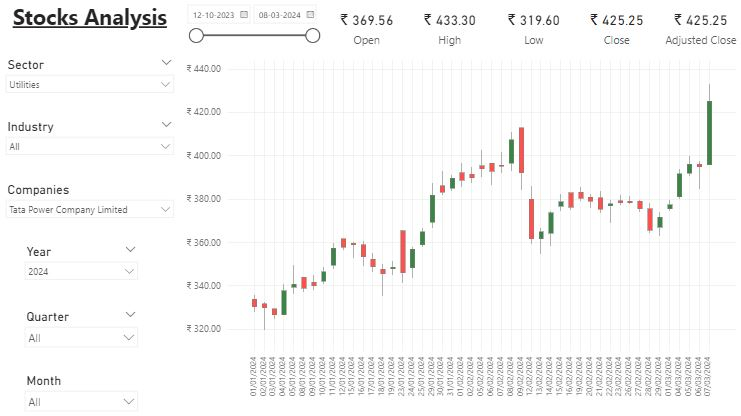

This screenshot's page, from the dashboard's own definition file:
{"tool":"powerbi","page":{"name":"Stocks Analysis","canvas":[1280,720],"ordinal":0},"visuals":[{"type":"PBI_CV_886A053E_9DFD_4EA0_A47D_CCAEB89AF969","fields":{"close":["Sum(stocks data.Close)"],"high":["Sum(stocks data.High)"],"low":["Sum(stocks data.Low)"],"open":["Avg(stocks data.Open)"],"Category":["stocks data.Date","stocks data.Date.Variation.Date Hierarchy.Year","stocks data.Date.Variation.Date Hierarchy.Quarter","stocks data.Date.Variation.Date Hierarchy.Month","stocks data.Date.Variation.Date Hierarchy.Day"]},"box":[309.6,95,970.6,625],"z":0},{"type":"slicer","fields":{"Values":["stocks data.Name"]},"box":[0,309.9,309.6,76.3],"z":1000},{"type":"slicer","fields":{"Values":["stocks data.Date.Variation.Date Hierarchy.Year"]},"box":[33.1,417.6,214.6,80.6],"z":2000},{"type":"slicer","fields":{"Values":["stocks data.Date"]},"box":[309.6,0,250.6,97.9],"z":3000},{"type":"slicer","fields":{"Values":["stocks data.Date.Variation.Date Hierarchy.Quarter"]},"box":[33.1,529.1,214.6,79.2],"z":4000},{"type":"slicer","fields":{"Values":["stocks data.Date.Variation.Date Hierarchy.Month"]},"box":[33.1,639.4,214.6,80.6],"z":5000},{"type":"textbox","box":[0,0,309.6,95],"z":6000},{"type":"slicer","fields":{"Values":["Sector.Sector"]},"box":[0,95,309.6,76.3],"z":7000},{"type":"card","fields":{"Values":["Avg(stocks data.Open)"]},"box":[560.2,0,144,95],"z":8000},{"type":"card","fields":{"Values":["Max(stocks data.Close)"]},"box":[992.2,0,144,95],"z":9000},{"type":"card","fields":{"Values":["Max(stocks data.High)"]},"box":[704.2,0,144,95],"z":10000},{"type":"card","fields":{"Values":["Min(stocks data.Low)"]},"box":[848.2,0,144,95],"z":11000},{"type":"card","fields":{"Values":["Max(stocks data.Adjusted Close)"]},"box":[1136.2,1.4,144,93.6],"z":12000},{"type":"slicer","fields":{"Values":["Sector.Industry"]},"box":[0,202.5,309.6,76.3],"z":13000}]}

Visuals, with their boxes in screenshot pixels (x1, y1, x2, y2), scaled from the page's 1280x720 canvas onto the 741x416 screenshot:
PBI_CV_886A053E_9DFD_4EA0_A47D_CCAEB89AF969 - Sum(stocks data.Close) x Sum(stocks data.High): 179, 55, 740, 415
slicer - stocks data.Name: 0, 179, 179, 223
slicer - stocks data.Date.Variation.Date Hierarchy.Year: 19, 241, 143, 288
slicer - stocks data.Date: 179, 0, 324, 57
slicer - stocks data.Date.Variation.Date Hierarchy.Quarter: 19, 306, 143, 351
slicer - stocks data.Date.Variation.Date Hierarchy.Month: 19, 369, 143, 415
textbox: 0, 0, 179, 55
slicer - Sector.Sector: 0, 55, 179, 99
card - Avg(stocks data.Open): 324, 0, 408, 55
card - Max(stocks data.Close): 574, 0, 658, 55
card - Max(stocks data.High): 408, 0, 491, 55
card - Min(stocks data.Low): 491, 0, 574, 55
card - Max(stocks data.Adjusted Close): 658, 1, 740, 55
slicer - Sector.Industry: 0, 117, 179, 161
